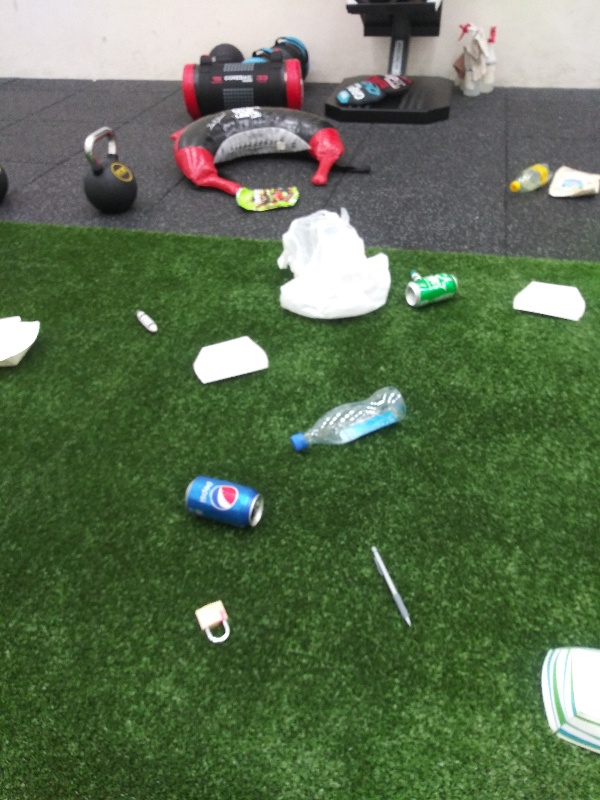bag: (546, 159, 600, 206), (232, 184, 303, 214)
bottle: (286, 385, 410, 455), (503, 160, 556, 199)
can: (177, 468, 267, 530), (401, 268, 463, 316)
plate: (538, 639, 600, 763), (190, 332, 275, 387), (504, 278, 593, 326), (1, 311, 41, 374)
